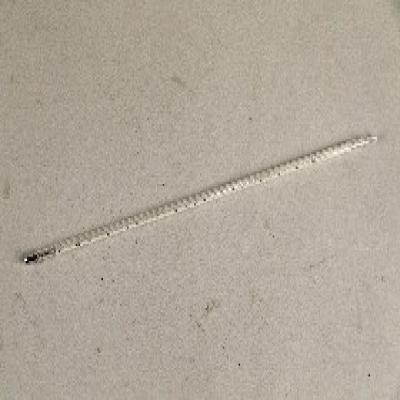technique: (19, 135, 379, 265)
